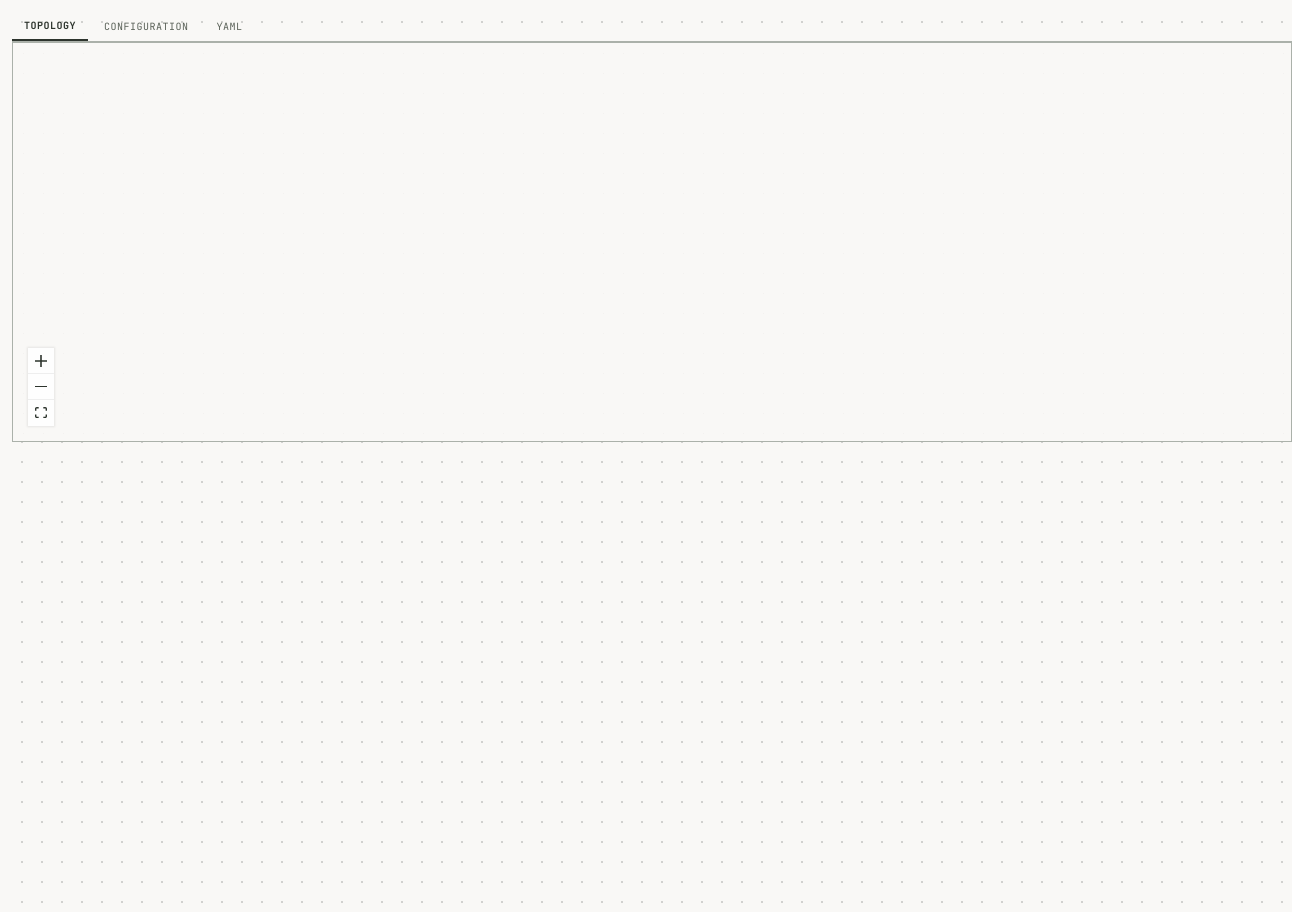
Test case: RigSpecDisplay › renders YAML tab content
What coordinates should you click on to do the following:
click the button with test id "tab-yaml"
I would click on:
 (230, 26)
Its box is [204,12,254,41].
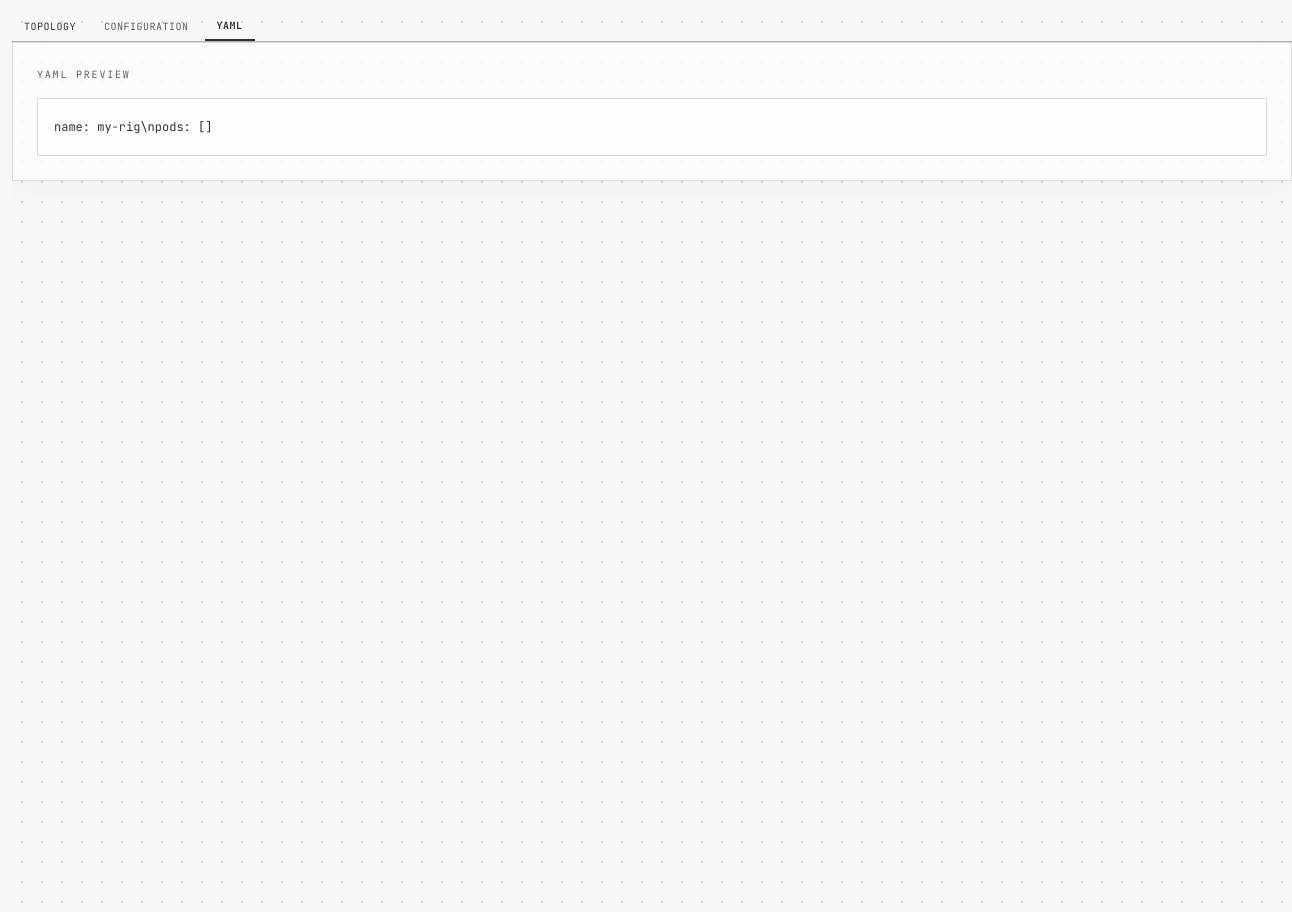
Expected: the text with test id "spec-yaml" shows "name: my-rig", [54,119,212,135]
